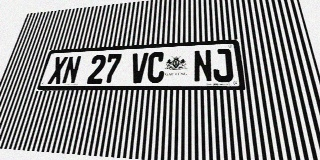2: (87, 54, 107, 84)
7: (102, 54, 122, 84)
C: (146, 52, 165, 83)
J: (212, 48, 234, 82)
N: (193, 49, 213, 83), (61, 56, 82, 84)
V: (129, 52, 148, 83)
X: (47, 56, 68, 84)
